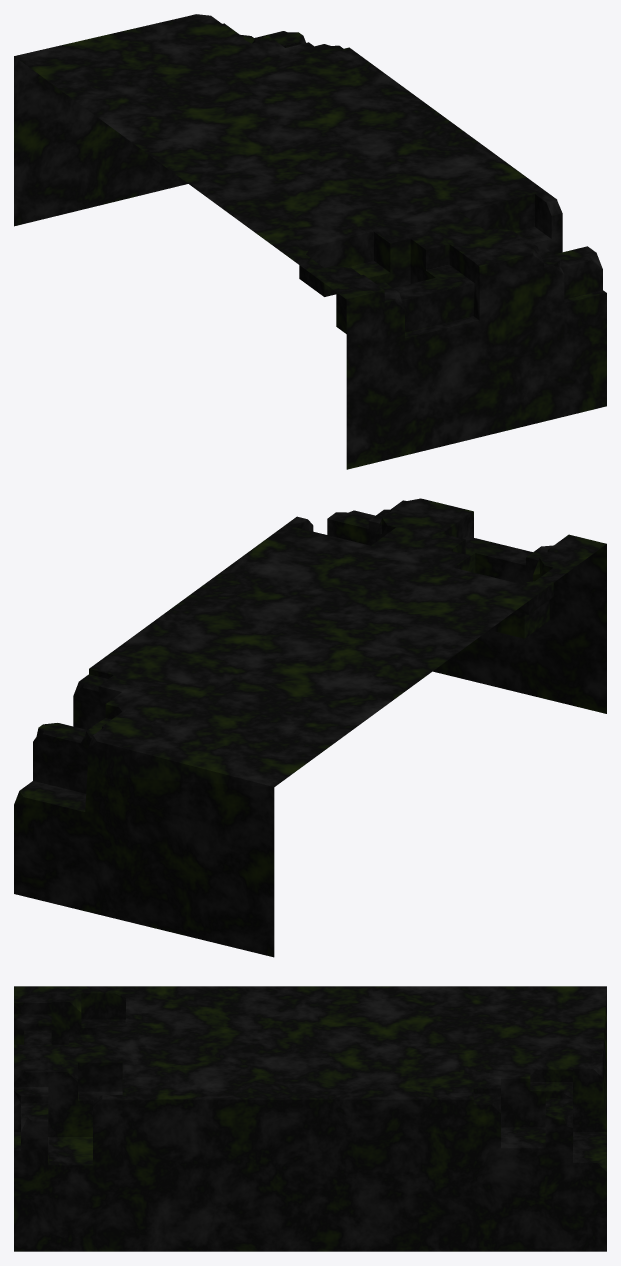
File: tembok 3.fbx
3 views of the same model, one above another, from view 1: azimuth 30°, elevation 25°; view 2: azimuth 150°, elevation 25°; view 3: azimuth 270°, elevation 25° (orthographic). The views are drawn at different scales.
Parts seen in each view (by area): view 1: Plane.001; view 2: Plane.001; view 3: Plane.001.
Part boxes in pixels (x1,y1,x2,y2): Plane.001: (14, 14, 606, 469); Plane.001: (14, 498, 606, 957); Plane.001: (14, 986, 606, 1251).
Bounding box in the file's own units: 4139 × 2585 × 9152.
